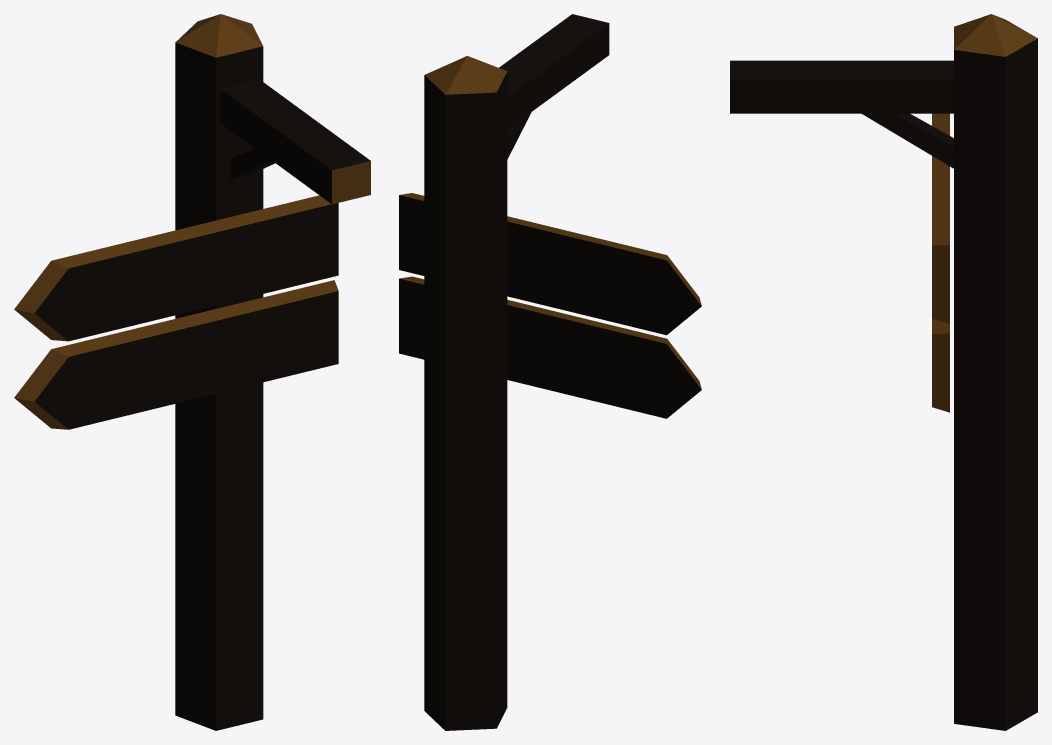
File: Signpost_7.fbx
The picture shows the model from 3 angles, left to right: view 1: azimuth 30°, elevation 25°; view 2: azimuth 150°, elevation 25°; view 3: azimuth 270°, elevation 25°; orthographic projection. The views are drawn at different scales.
Visible parts, largest first — view 1: Signpost_7; view 2: Signpost_7; view 3: Signpost_7.
Part boxes in pixels (bbox=[...]): Signpost_7: bbox=[14, 14, 370, 730]; Signpost_7: bbox=[399, 14, 701, 730]; Signpost_7: bbox=[730, 14, 1037, 730].
Bounding box in the file's own units: 104 × 216 × 86.47.
